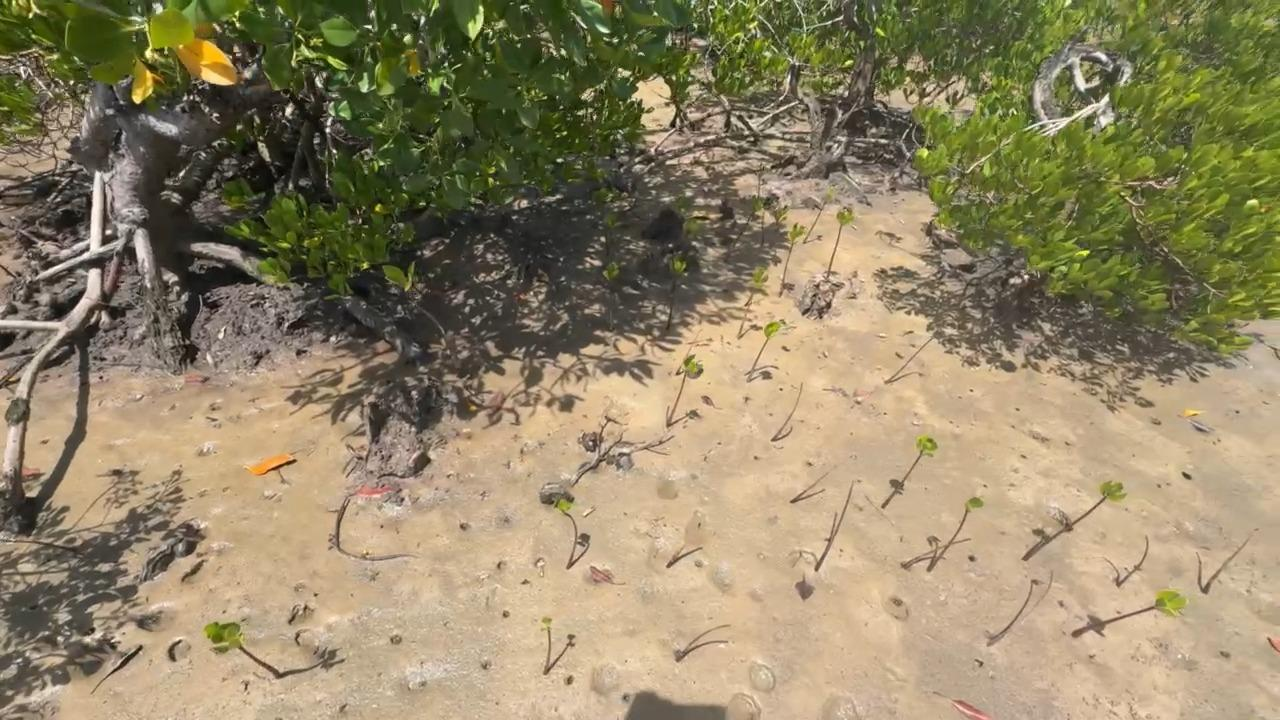Tree: (204, 621, 281, 680), (988, 578, 1040, 642), (746, 319, 796, 384), (665, 353, 704, 428), (1103, 589, 1189, 623), (541, 490, 578, 569), (1071, 480, 1128, 524), (1202, 540, 1247, 595), (885, 336, 935, 384), (902, 538, 971, 569), (770, 381, 804, 440), (825, 206, 853, 276), (901, 434, 938, 483), (664, 255, 688, 330), (778, 223, 807, 284), (1117, 535, 1150, 586), (731, 195, 764, 244), (801, 194, 836, 240), (949, 497, 984, 542), (761, 191, 784, 249), (816, 511, 837, 571), (790, 472, 831, 502), (675, 639, 728, 662), (602, 259, 619, 330), (743, 269, 769, 306), (675, 220, 699, 260), (541, 617, 553, 675), (665, 544, 686, 568)
